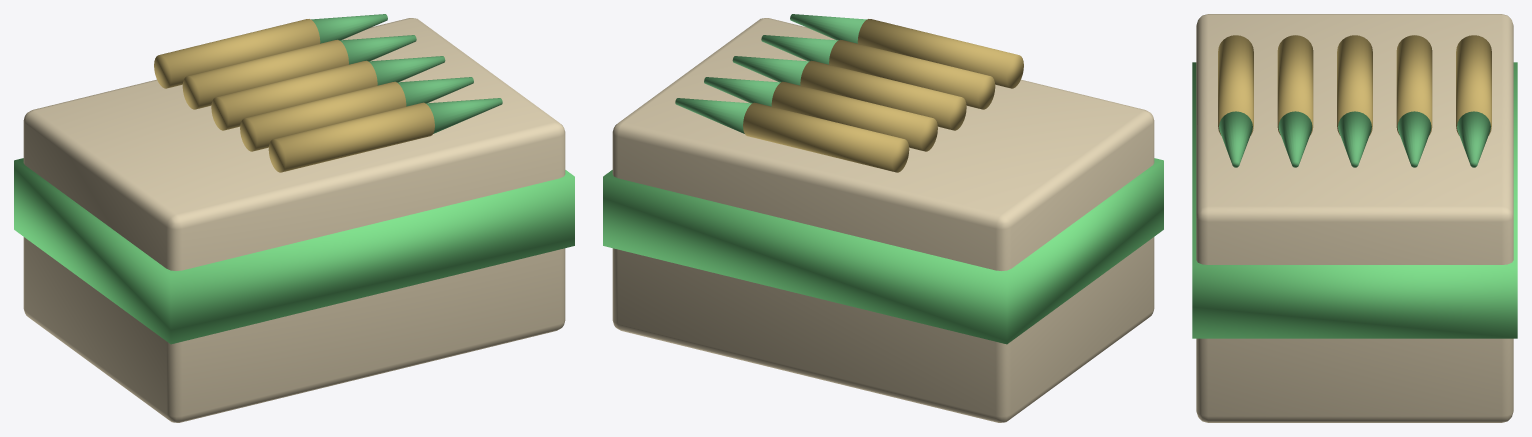
File: SM_Ammo_556.glb
3 renders of one model, left to right at view 1: azimuth 30°, elevation 25°; view 2: azimuth 150°, elevation 25°; view 3: azimuth 270°, elevation 25°, orthographic. The views are drawn at different scales.
Parts seen in each view (by area): view 1: SM_Ammo_556; view 2: SM_Ammo_556; view 3: SM_Ammo_556.
Boxes of the visible parts, x1=… form: SM_Ammo_556: x1=14, y1=14, x2=574, y2=422; SM_Ammo_556: x1=603, y1=14, x2=1163, y2=422; SM_Ammo_556: x1=1192, y1=14, x2=1517, y2=422.
Size of the model in its own units: 0.122 by 0.0705 by 0.082.
